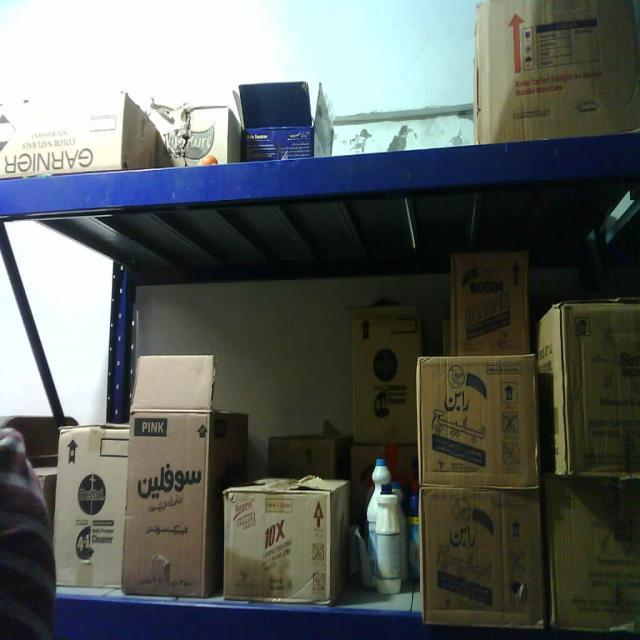cardboxes: (473, 0, 640, 148), (130, 352, 210, 599), (417, 481, 548, 631), (414, 352, 542, 494), (545, 478, 640, 637), (556, 298, 640, 476), (221, 484, 332, 604), (56, 422, 125, 592), (349, 301, 421, 444), (448, 248, 531, 356)
